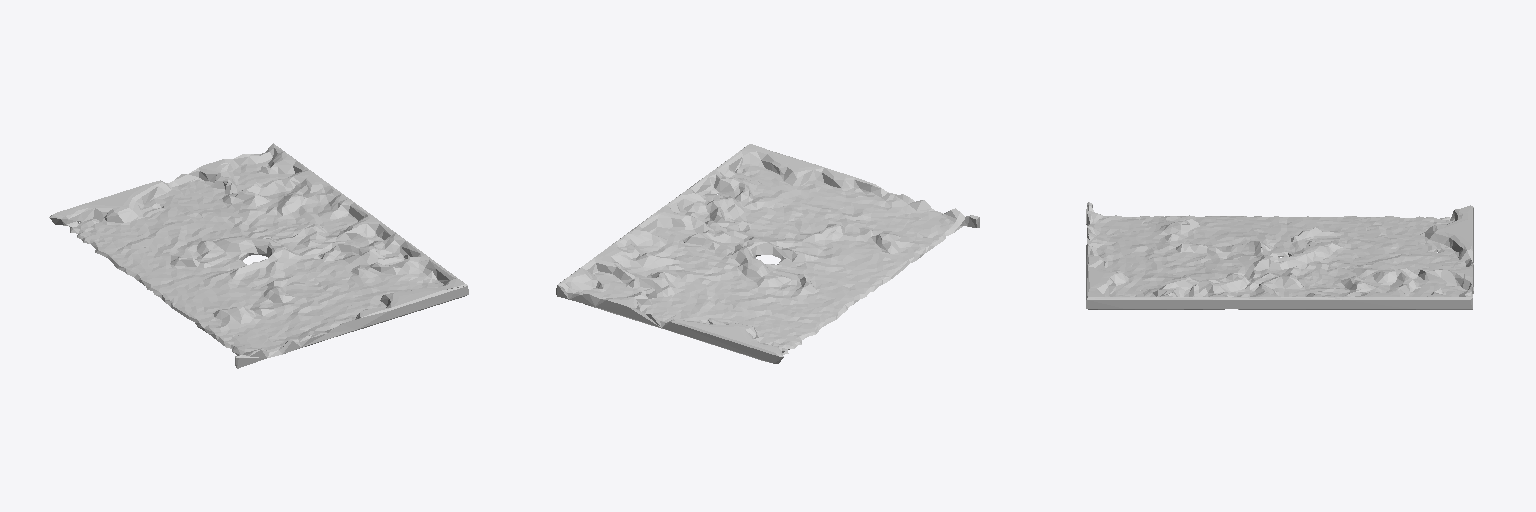
The picture shows the model from 3 angles: view 1: azimuth 30°, elevation 25°; view 2: azimuth 150°, elevation 25°; view 3: azimuth 270°, elevation 25°; orthographic projection.
Visible parts, largest first — view 1: Liquid_Domain; view 2: Liquid_Domain; view 3: Liquid_Domain.
Part boxes in pixels (x1,y1,x2,y2): Liquid_Domain: (49, 143, 468, 368); Liquid_Domain: (556, 144, 979, 363); Liquid_Domain: (1086, 202, 1473, 309).
Bounding box in the file's own units: 116 × 13.83 × 168.